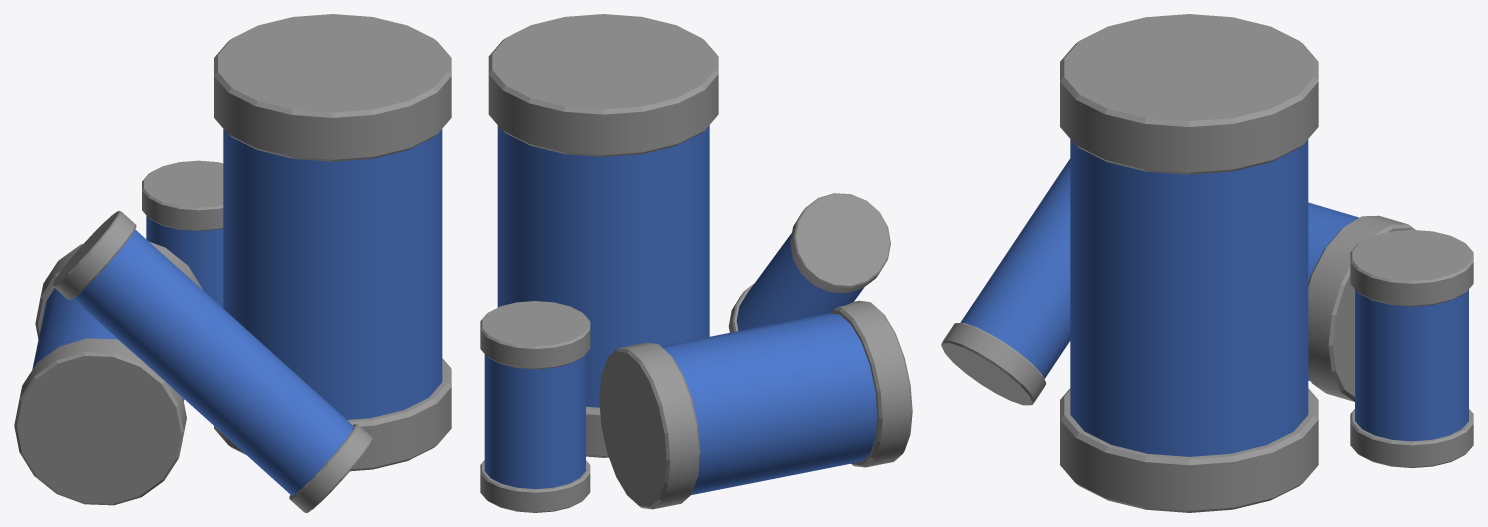
File: Paintcans.FBX
3 renders of one model, left to right at view 1: azimuth 30°, elevation 25°; view 2: azimuth 150°, elevation 25°; view 3: azimuth 270°, elevation 25°, orthographic. The views are drawn at different scales.
Parts seen in each view (by area): view 1: Paint; view 2: Paint; view 3: Paint.
Part boxes in pixels (x1,y1,x2,y2): Paint: (14, 14, 451, 512); Paint: (480, 14, 912, 512); Paint: (941, 14, 1473, 512).
Size of the model in its own units: 1 by 0.8165 by 1.
